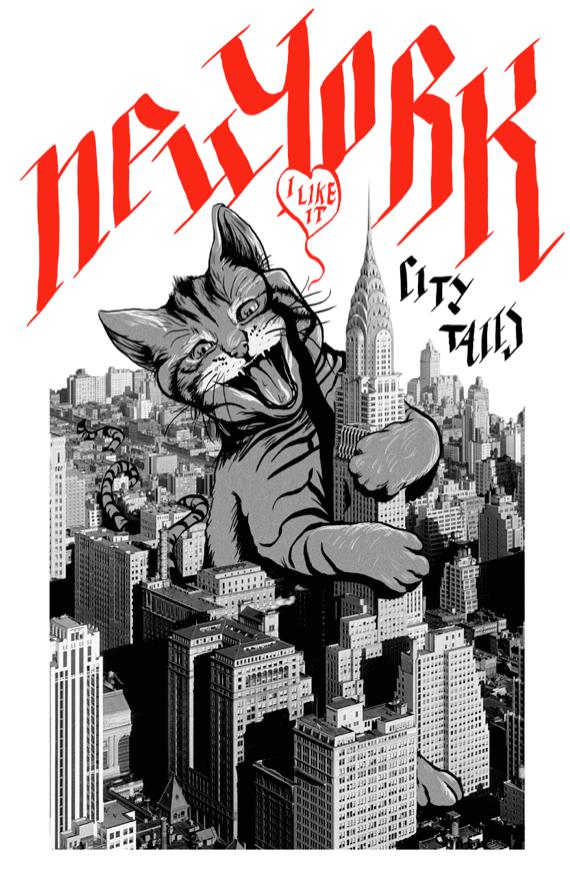cat: (70, 206, 455, 612)
